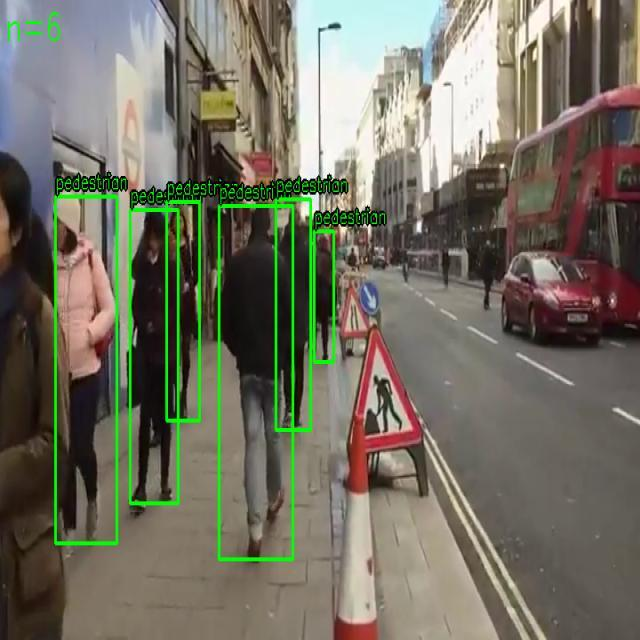with scooter: (218, 205, 294, 560), (55, 196, 117, 544), (130, 209, 178, 504), (276, 198, 312, 430), (166, 202, 200, 422), (314, 230, 334, 362)
